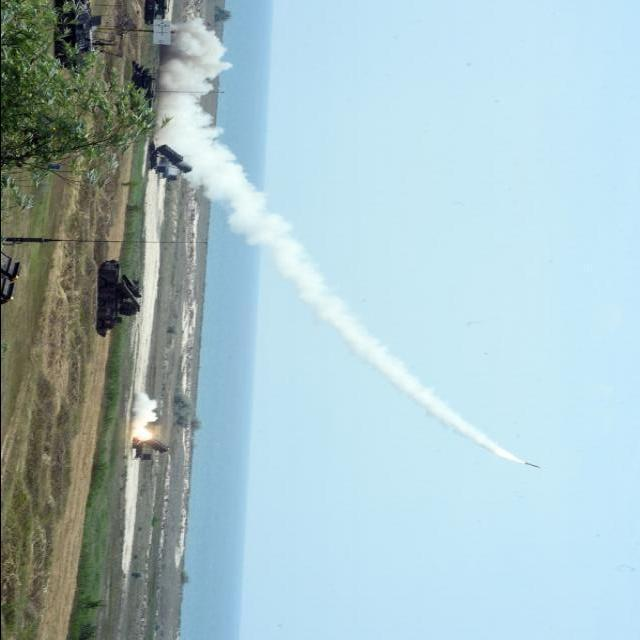missile: (522, 454, 546, 481)
